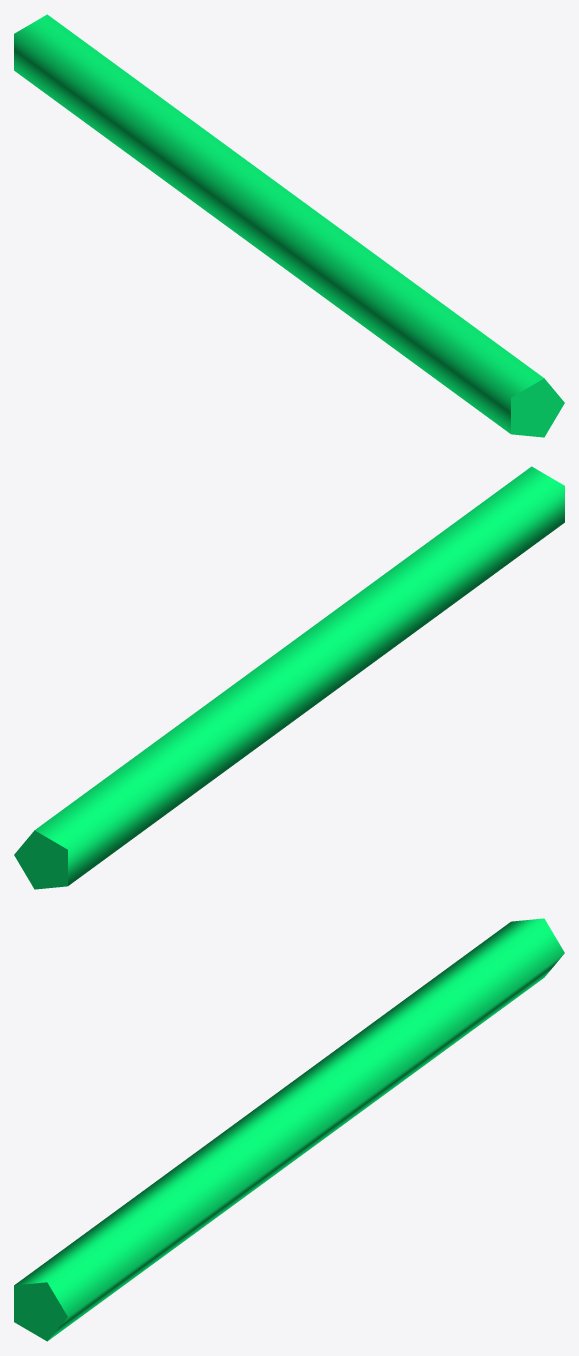
Rendered from Banner3_Collision.FBX.
The picture shows the model from 3 angles, top to bottom: view 1: azimuth 30°, elevation 25°; view 2: azimuth 150°, elevation 25°; view 3: azimuth 330°, elevation 25°; orthographic projection.
Parts seen in each view (by area): view 1: Banner3_Collision; view 2: Banner3_Collision; view 3: Banner3_Collision.
Part boxes in pixels (x1=…): Banner3_Collision: x1=14, y1=14, x2=564, y2=437; Banner3_Collision: x1=14, y1=466, x2=564, y2=889; Banner3_Collision: x1=14, y1=918, x2=564, y2=1341.
Bounding box in the file's own units: 0.1358 × 0.1428 × 2.17.
